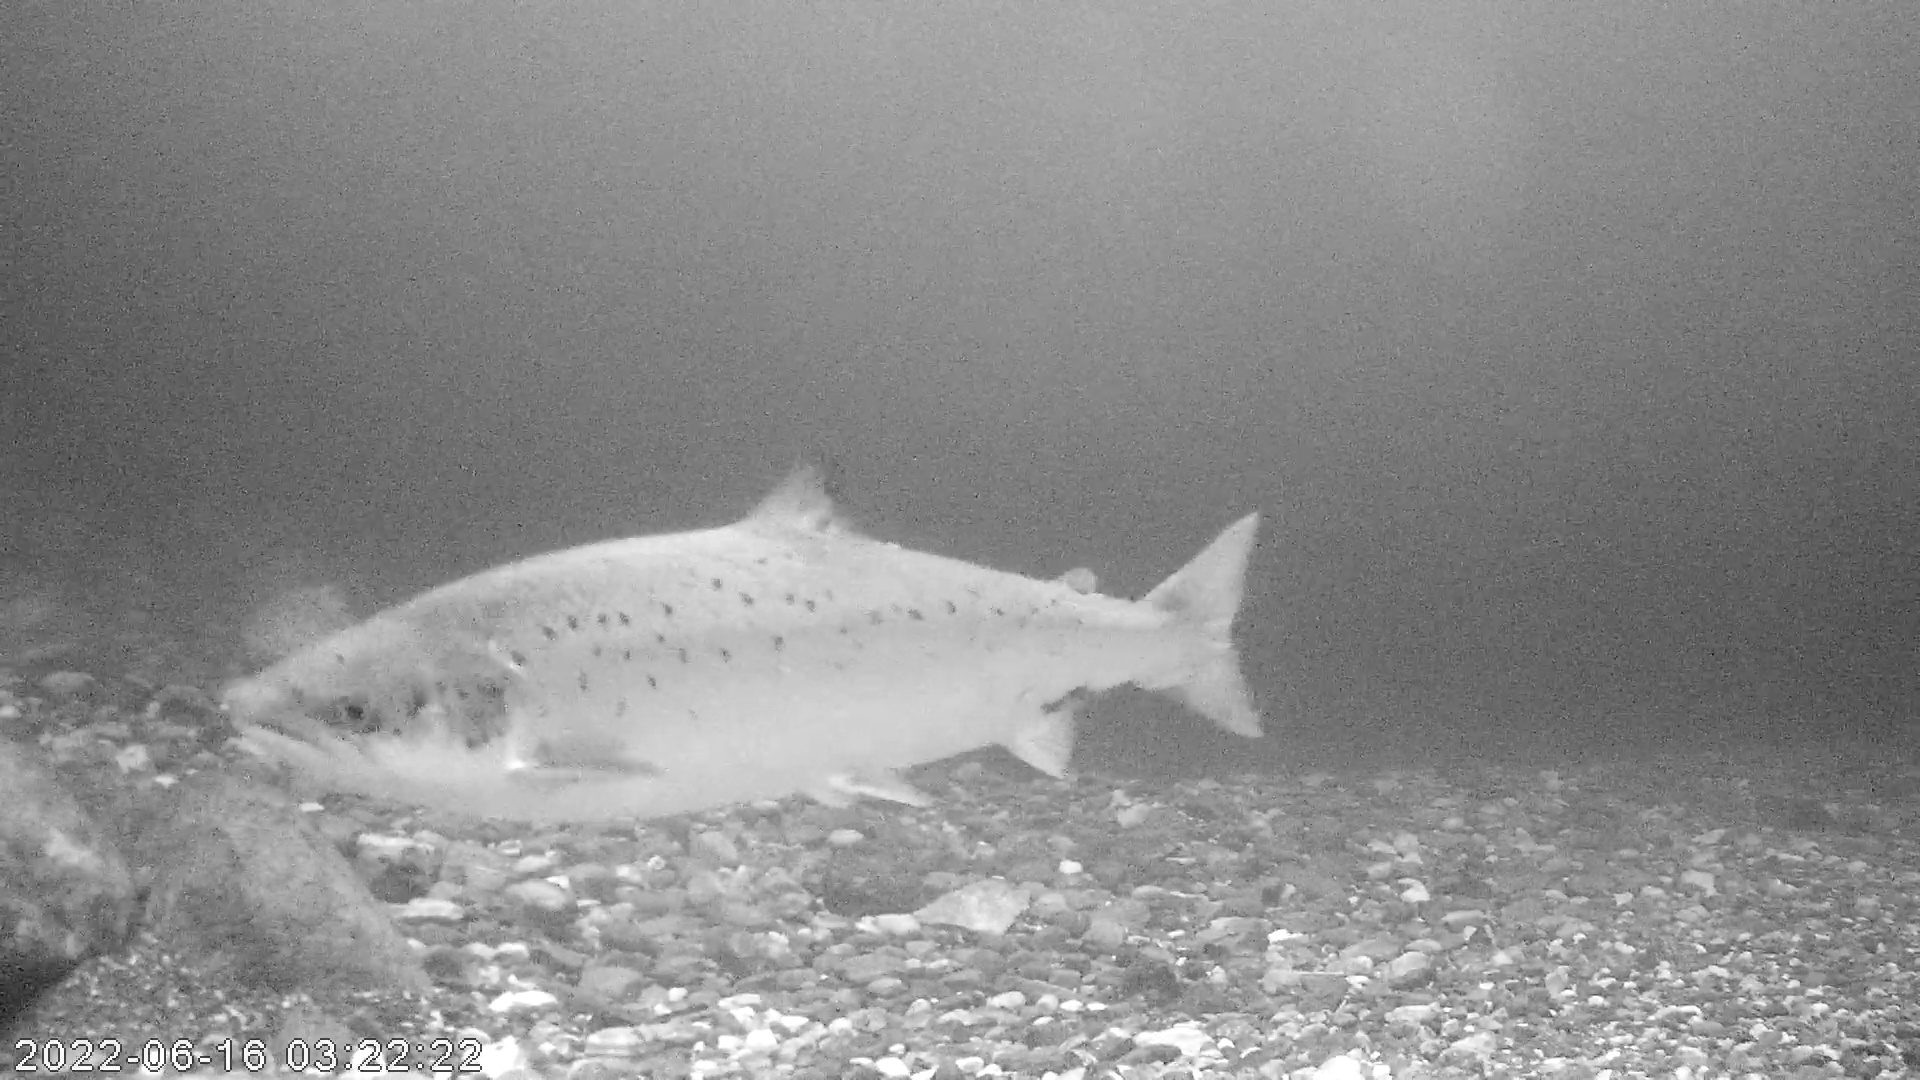salmon: (222, 458, 1265, 828)
